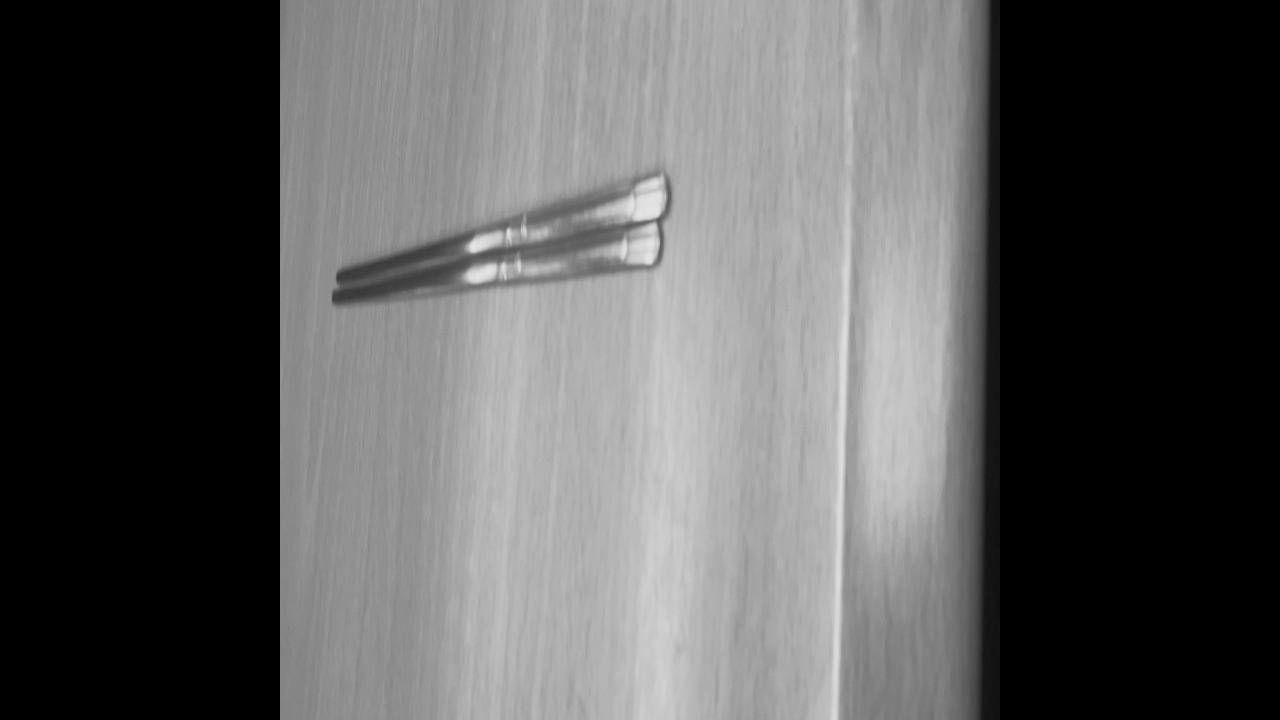chopstick: (332, 174, 666, 304)
